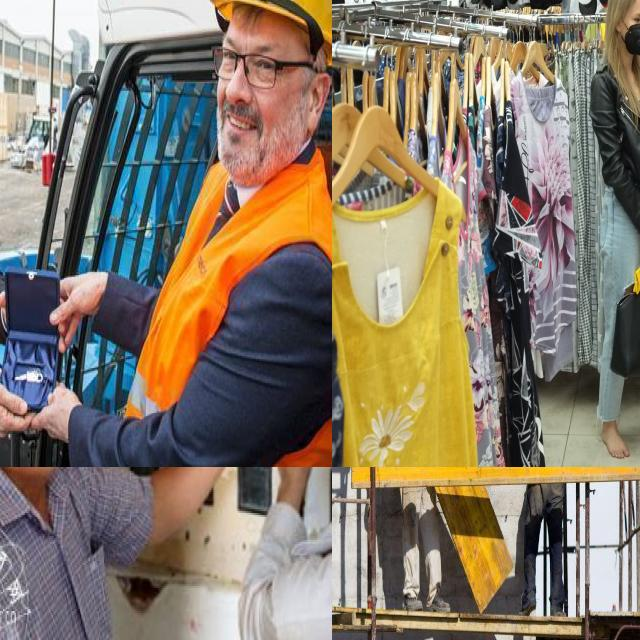Barefoots: (601, 422, 630, 458)
No_Ear-Protection: (304, 69, 330, 143)
face_nomask: (209, 8, 286, 174)
glasses: (210, 40, 281, 91)
hand_noglove: (54, 260, 107, 346), (32, 365, 84, 452), (0, 371, 35, 455), (278, 467, 311, 509)
head_helmet: (217, 0, 332, 56)
person: (115, 0, 332, 463), (383, 467, 452, 602), (529, 467, 576, 601)
vest: (132, 174, 332, 467)
